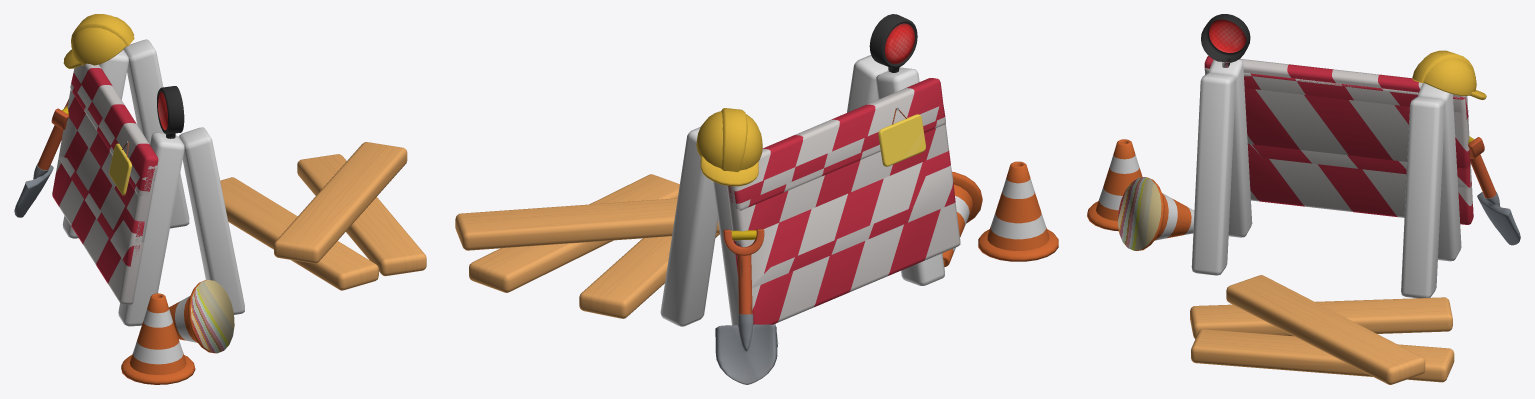
File: ConstructionSite 2.fbx
The picture shows the model from 3 angles, left to right: view 1: azimuth 30°, elevation 25°; view 2: azimuth 150°, elevation 25°; view 3: azimuth 270°, elevation 25°; orthographic projection. The views are drawn at different scales.
Visible parts, largest first — view 1: Box007, WoodenPlan2, Box005, Box009, WoodenPlank, Box004, WoodenPlan3, Cylinder001, Cylinder004, Box003, Sphere001, Box010 (+4 smaller); view 2: Box007, Box009, WoodenPlan2, Box003, WoodenPlan3, Shovel, Box010, Cylinder001, WoodenPlank, Sphere001, Cylinder003, Box008 (+4 smaller); view 3: Box009, Box007, WoodenPlan2, Box005, Box003, WoodenPlan3, WoodenPlank, Box010, Cylinder004, Box004, Box001, Cylinder001 (+3 smaller).
Boxes of the visible parts, x1,y1,x2,y2 form: Box007: (52, 72, 157, 304); WoodenPlan2: (274, 142, 407, 263); Box005: (179, 127, 244, 314); Box009: (67, 63, 158, 242); WoodenPlank: (220, 177, 378, 290); Box004: (118, 132, 184, 326); WoodenPlan3: (297, 154, 426, 276); Cylinder001: (121, 293, 195, 384); Cylinder004: (169, 279, 234, 353); Box003: (123, 39, 189, 228); Sphere001: (63, 14, 134, 68); Box010: (58, 83, 157, 266); Box007: (728, 104, 960, 324); Box009: (727, 78, 948, 260); WoodenPlan2: (455, 198, 719, 250); Box003: (660, 127, 717, 326); WoodenPlan3: (469, 174, 679, 292); Shovel: (715, 229, 777, 384); Box010: (727, 117, 955, 288); Cylinder001: (978, 161, 1058, 261); WoodenPlank: (579, 233, 719, 318); Sphere001: (696, 108, 762, 186); Cylinder003: (869, 14, 917, 72); Box008: (878, 107, 925, 166); Box009: (1204, 56, 1470, 168); Box007: (1204, 68, 1473, 224); WoodenPlan2: (1226, 275, 1425, 384); Box005: (1191, 72, 1235, 275); Box003: (1401, 96, 1445, 298); WoodenPlan3: (1191, 329, 1454, 382); WoodenPlank: (1190, 297, 1452, 338); Box010: (1205, 73, 1471, 189); Cylinder004: (1117, 177, 1194, 250); Box004: (1208, 59, 1252, 237); Box001: (1417, 83, 1461, 261); Cylinder001: (1087, 139, 1142, 231).
Size of the model in its own units: 14.15 by 7.54 by 12.79.
